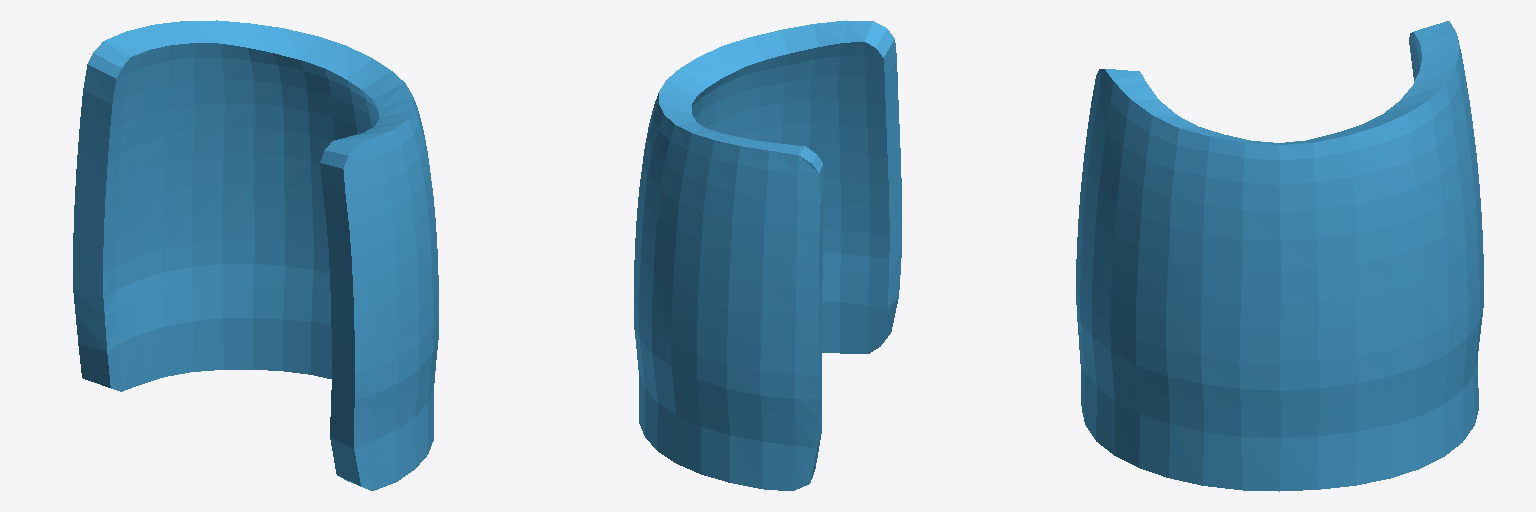
robot.urdf — link6:
<?xml version="1.0" ?>
<!-- =================================================================================== -->
<!-- |    This document was autogenerated by xacro from link6.xacro                    | -->
<!-- |    EDITING THIS FILE BY HAND IS NOT RECOMMENDED                                 | -->
<!-- =================================================================================== -->
<robot name="link6">
  <!-- [m] -->
  <link name="fr3_link6_skin"/>
  <joint name="fr3_link6_base_joint" type="fixed">
    <origin rpy="0 0 0" xyz="0 0 0"/>
    <parent link="fr3_link6_skin"/>
    <child link="fr3_link6_skin_inertia"/>
  </joint>
  <link name="fr3_link6_skin_inertia">
    <visual>
      <origin rpy="0 0 0" xyz="0 0 0"/>
      <geometry>
        <mesh filename="package://gentact_ros_tools/meshes/skins/link6.stl" scale="1 1 1"/>
      </geometry>
    </visual>
  </link>
  <joint name="fr3_link6_sensor_0_joint" type="fixed">
    <origin rpy="1.582 0.000 0.494" xyz="0.117 -0.045 -0.004"/>
    <axis xyz="0.474 -0.881 -0.011"/>
    <parent link="fr3_link6_skin"/>
    <child link="fr3_link6_sensor_0"/>
  </joint>
  <link name="fr3_link6_sensor_0">
    <visual>
      <geometry>
        <sphere radius="0.0"/>
        <!-- [m] -->
      </geometry>
    </visual>
    <collision>
      <geometry>
        <sphere radius="0.0"/>
        <!-- [m] -->
      </geometry>
    </collision>
  </link>
  <joint name="fr3_link6_sensor_1_joint" type="fixed">
    <origin rpy="1.451 0.000 1.101" xyz="0.133 -0.025 0.039"/>
    <axis xyz="0.885 -0.449 0.12"/>
    <parent link="fr3_link6_skin"/>
    <child link="fr3_link6_sensor_1"/>
  </joint>
  <link name="fr3_link6_sensor_1">
    <visual>
      <geometry>
        <sphere radius="0.0"/>
        <!-- [m] -->
      </geometry>
    </visual>
    <collision>
      <geometry>
        <sphere radius="0.0"/>
        <!-- [m] -->
      </geometry>
    </collision>
  </link>
  <joint name="fr3_link6_sensor_2_joint" type="fixed">
    <origin rpy="1.487 -0.000 1.464" xyz="0.140 -0.002 0.030"/>
    <axis xyz="0.991 -0.106 0.084"/>
    <parent link="fr3_link6_skin"/>
    <child link="fr3_link6_sensor_2"/>
  </joint>
  <link name="fr3_link6_sensor_2">
    <visual>
      <geometry>
        <sphere radius="0.0"/>
        <!-- [m] -->
      </geometry>
    </visual>
    <collision>
      <geometry>
        <sphere radius="0.0"/>
        <!-- [m] -->
      </geometry>
    </collision>
  </link>
  <joint name="fr3_link6_sensor_3_joint" type="fixed">
    <origin rpy="1.585 -0.000 2.644" xyz="0.113 0.047 0.002"/>
    <axis xyz="0.477 0.879 -0.015"/>
    <parent link="fr3_link6_skin"/>
    <child link="fr3_link6_sensor_3"/>
  </joint>
  <link name="fr3_link6_sensor_3">
    <visual>
      <geometry>
        <sphere radius="0.0"/>
        <!-- [m] -->
      </geometry>
    </visual>
    <collision>
      <geometry>
        <sphere radius="0.0"/>
        <!-- [m] -->
      </geometry>
    </collision>
  </link>
  <joint name="fr3_link6_sensor_4_joint" type="fixed">
    <origin rpy="1.533 -0.000 2.048" xyz="0.132 0.029 0.018"/>
    <axis xyz="0.888 0.459 0.037"/>
    <parent link="fr3_link6_skin"/>
    <child link="fr3_link6_sensor_4"/>
  </joint>
  <link name="fr3_link6_sensor_4">
    <visual>
      <geometry>
        <sphere radius="0.0"/>
        <!-- [m] -->
      </geometry>
    </visual>
    <collision>
      <geometry>
        <sphere radius="0.0"/>
        <!-- [m] -->
      </geometry>
    </collision>
  </link>
  <joint name="fr3_link6_sensor_5_joint" type="fixed">
    <origin rpy="1.581 -0.000 1.470" xyz="0.141 -0.001 -0.002"/>
    <axis xyz="0.995 -0.1 -0.01"/>
    <parent link="fr3_link6_skin"/>
    <child link="fr3_link6_sensor_5"/>
  </joint>
  <link name="fr3_link6_sensor_5">
    <visual>
      <geometry>
        <sphere radius="0.0"/>
        <!-- [m] -->
      </geometry>
    </visual>
    <collision>
      <geometry>
        <sphere radius="0.0"/>
        <!-- [m] -->
      </geometry>
    </collision>
  </link>
  <joint name="fr3_link6_sensor_6_joint" type="fixed">
    <origin rpy="1.541 -0.000 0.888" xyz="0.130 -0.033 0.015"/>
    <axis xyz="0.776 -0.631 0.03"/>
    <parent link="fr3_link6_skin"/>
    <child link="fr3_link6_sensor_6"/>
  </joint>
  <link name="fr3_link6_sensor_6">
    <visual>
      <geometry>
        <sphere radius="0.0"/>
        <!-- [m] -->
      </geometry>
    </visual>
    <collision>
      <geometry>
        <sphere radius="0.0"/>
        <!-- [m] -->
      </geometry>
    </collision>
  </link>
  <joint name="fr3_link6_sensor_7_joint" type="fixed">
    <origin rpy="1.488 0.000 -3.049" xyz="0.087 0.051 0.036"/>
    <axis xyz="-0.092 0.992 0.083"/>
    <parent link="fr3_link6_skin"/>
    <child link="fr3_link6_sensor_7"/>
  </joint>
  <link name="fr3_link6_sensor_7">
    <visual>
      <geometry>
        <sphere radius="0.0"/>
        <!-- [m] -->
      </geometry>
    </visual>
    <collision>
      <geometry>
        <sphere radius="0.0"/>
        <!-- [m] -->
      </geometry>
    </collision>
  </link>
</robot>

--- Render facts (derived) ---
Views: 3 orthographic renders of the robot side by side, from view 1: azimuth 30°, elevation 25°; view 2: azimuth 150°, elevation 25°; view 3: azimuth 270°, elevation 25°.
Robot: link6 — 10 links, 9 joints (9 fixed); root link fr3_link6_skin; default pose: all joints at 0.
Visible links, largest first — view 1: fr3_link6_skin_inertia; view 2: fr3_link6_skin_inertia; view 3: fr3_link6_skin_inertia.
Boxes of the visible links, x1,y1,x2,y2 form: fr3_link6_skin_inertia: [73, 20, 438, 490]; fr3_link6_skin_inertia: [634, 20, 901, 490]; fr3_link6_skin_inertia: [1076, 21, 1483, 491].
Bounding box of the posed robot: 0.0797 × 0.1069 × 0.1045 m (x, y, z).
1 mesh visuals loaded from 1 distinct referenced files (1 binary STL).